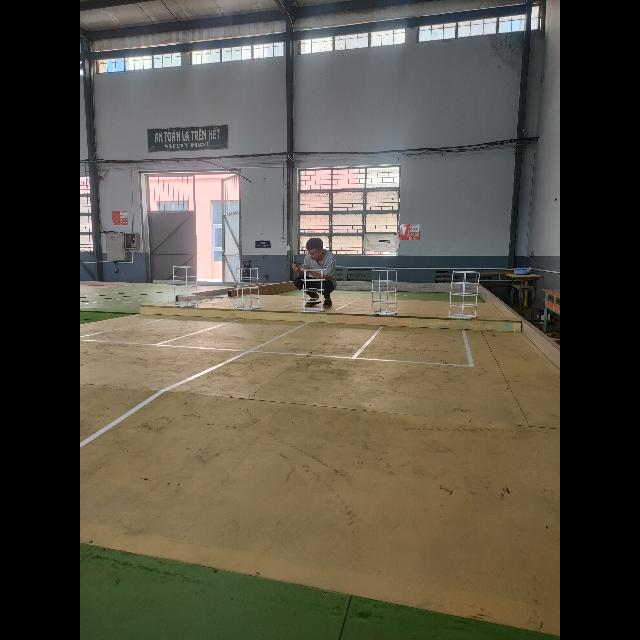S: (448, 270, 478, 318), (372, 268, 398, 316), (300, 269, 326, 313), (234, 268, 260, 310), (174, 266, 198, 306)
